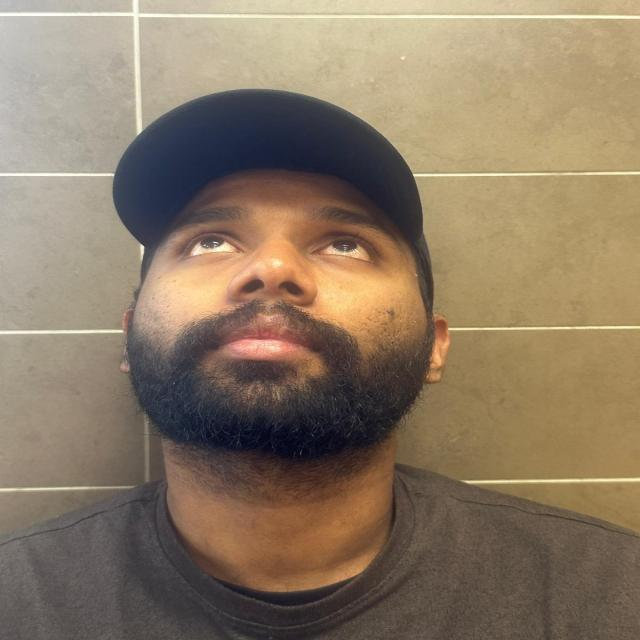cap: (76, 89, 453, 300)
